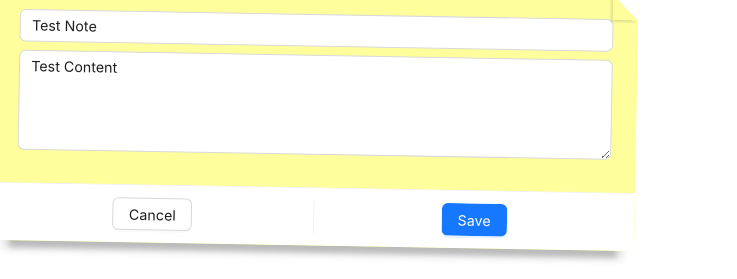
Test: UnsavedNote › shows validation error for empty title
Clear the field showing "Test Note" at [317, 30], box [20,9,614,52]
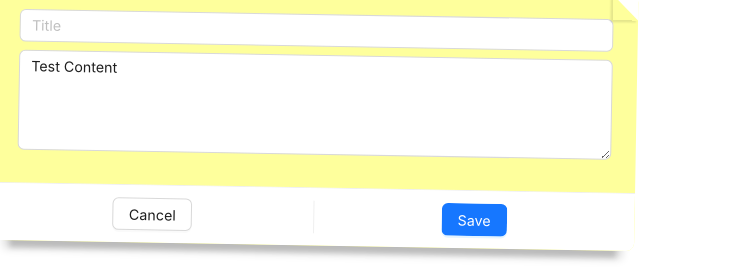
Click the button "Save" at [474, 220], box [441,203,507,237]
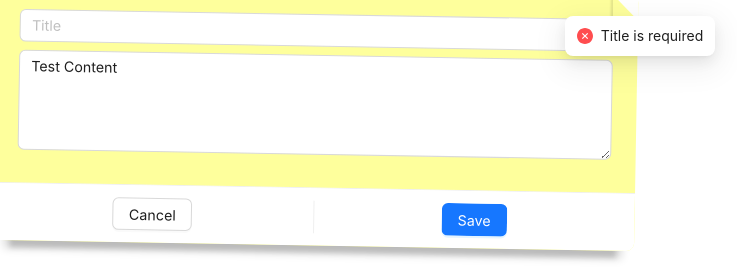
Expected: the text "Title is required" is shown, [601,25,703,47]
